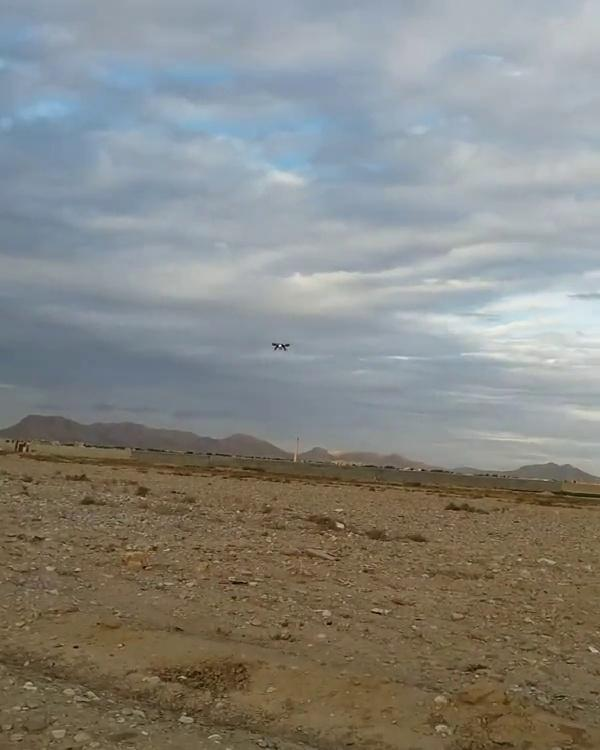drone: (268, 336, 294, 356)
